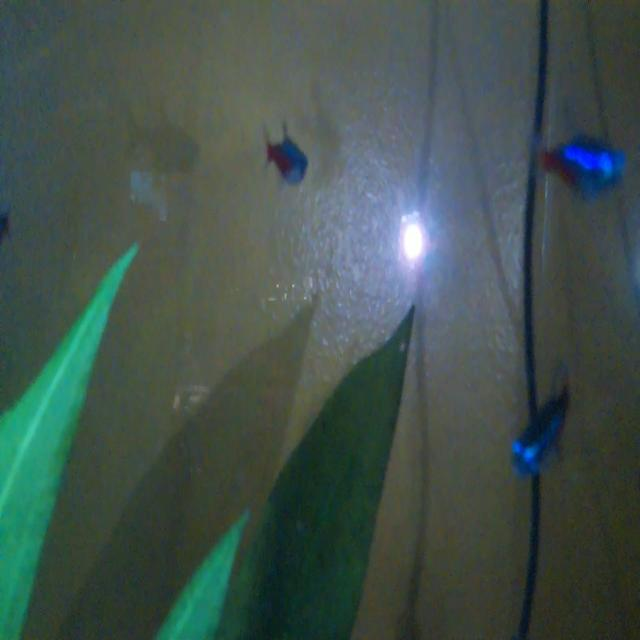fish: (490, 367, 590, 488), (526, 111, 636, 215), (260, 114, 317, 203)
